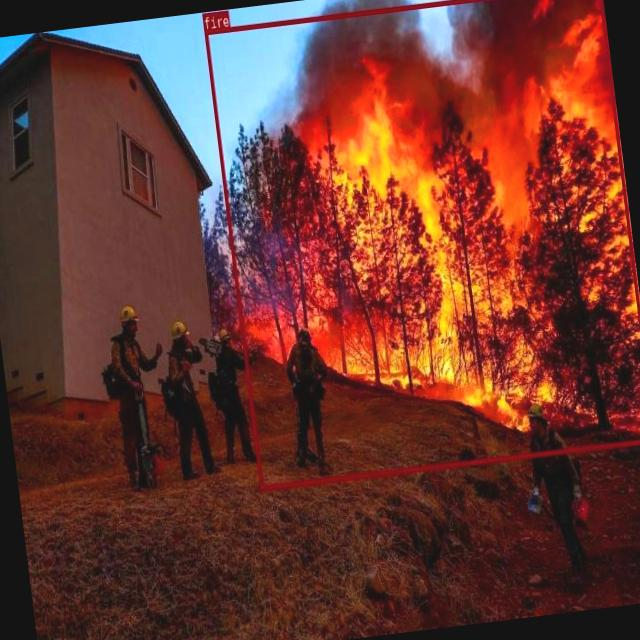fire: (203, 0, 640, 489)
